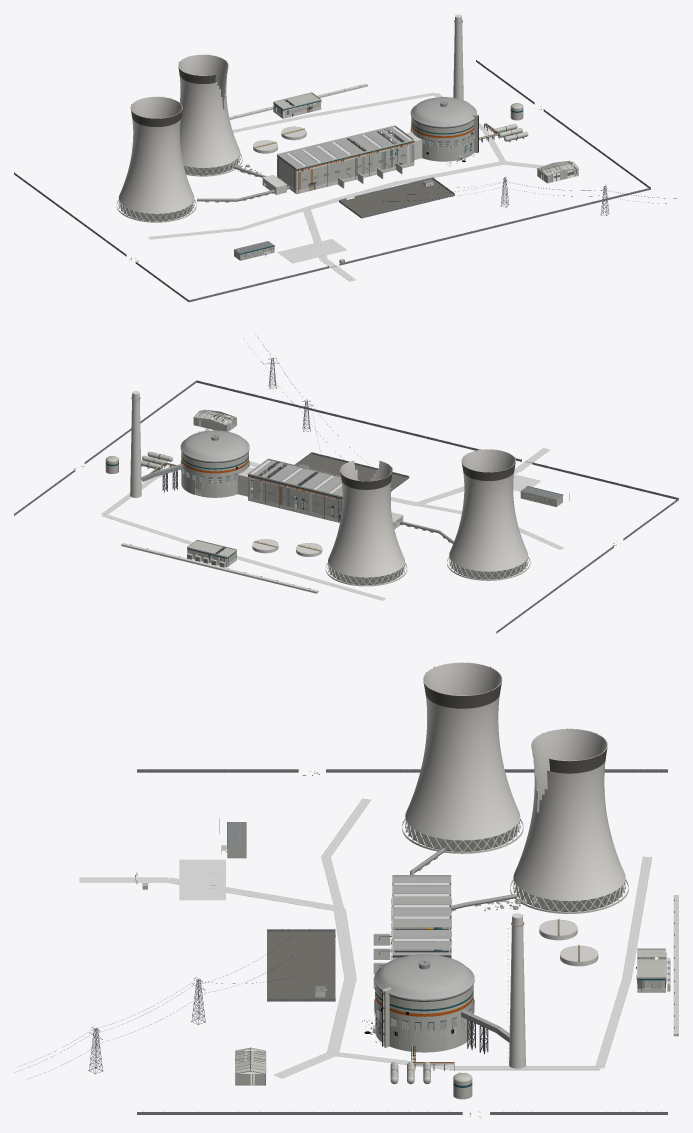
Rendered from fusion-plant.glb.
3 views of the same model, one above another, from view 1: azimuth 30°, elevation 25°; view 2: azimuth 150°, elevation 25°; view 3: azimuth 270°, elevation 25° (orthographic). The views are drawn at different scales.
Parts seen in each view (by area): view 1: C-3_0_lod0, C-1_1_lod0, C0_-1_lod0, C1_-1_lod0, C1_0_lod0, C0_0_lod0, C-1_0_lod0, C2_0_lod0, C-2_-2_lod0, C-1_-1_lod0, C0_1_lod0, C1_-3_lod0 (+5 smaller); view 2: C-1_1_lod0, C-3_0_lod0, C1_0_lod0, C0_0_lod0, C2_0_lod0, C0_-1_lod0, C0_1_lod0, C-2_-2_lod0, C1_-3_lod0, C0_2_lod0, C2_-2_lod0, C-1_0_lod0; view 3: C-1_1_lod0, C-3_0_lod0, C1_0_lod0, C0_-1_lod0, C2_0_lod0, C1_-1_lod0, C0_0_lod0, C-2_-2_lod0, C-1_0_lod0, C0_1_lod0, C2_-2_lod0, C-2_0_lod0 (+7 smaller).
Boxes of the visible parts, x1=… form: C-3_0_lod0: x1=116, y1=96, x2=194, y2=222; C-1_1_lod0: x1=178, y1=54, x2=306, y2=175; C0_-1_lod0: x1=296, y1=139, x2=452, y2=216; C1_-1_lod0: x1=395, y1=114, x2=504, y2=193; C1_0_lod0: x1=391, y1=97, x2=476, y2=159; C0_0_lod0: x1=277, y1=125, x2=413, y2=194; C-1_0_lod0: x1=216, y1=146, x2=332, y2=197; C2_0_lod0: x1=434, y1=14, x2=523, y2=142; C-2_-2_lod0: x1=234, y1=239, x2=346, y2=263; C-1_-1_lod0: x1=275, y1=161, x2=361, y2=223; C0_1_lod0: x1=273, y1=92, x2=328, y2=140; C1_-3_lod0: x1=339, y1=187, x2=650, y2=265; C-1_1_lod0: x1=237, y1=460, x2=404, y2=600; C-3_0_lod0: x1=449, y1=449, x2=530, y2=580; C1_0_lod0: x1=153, y1=430, x2=270, y2=497; C0_0_lod0: x1=247, y1=460, x2=342, y2=522; C2_0_lod0: x1=101, y1=391, x2=176, y2=514; C0_-1_lod0: x1=268, y1=454, x2=418, y2=505; C0_1_lod0: x1=187, y1=539, x2=278, y2=567; C-2_-2_lod0: x1=513, y1=467, x2=563, y2=506; C1_-3_lod0: x1=196, y1=366, x2=521, y2=461; C0_2_lod0: x1=121, y1=543, x2=318, y2=593; C2_-2_lod0: x1=193, y1=409, x2=236, y2=431; C-1_0_lod0: x1=329, y1=487, x2=417, y2=529; C-1_1_lod0: x1=513, y1=728, x2=652, y2=978; C-3_0_lod0: x1=405, y1=662, x2=523, y2=851; C1_0_lod0: x1=374, y1=954, x2=499, y2=1054; C0_-1_lod0: x1=267, y1=875, x2=402, y2=998; C2_0_lod0: x1=407, y1=913, x2=599, y2=1099; C1_-1_lod0: x1=267, y1=978, x2=410, y2=1054; C0_0_lod0: x1=392, y1=875, x2=451, y2=959; C-2_-2_lod0: x1=171, y1=821, x2=246, y2=900; C-1_0_lod0: x1=392, y1=875, x2=541, y2=929; C0_1_lod0: x1=560, y1=944, x2=670, y2=997; C2_-2_lod0: x1=235, y1=1047, x2=266, y2=1085; C-2_0_lod0: x1=408, y1=690, x2=522, y2=886.
Size of what is drawn, in the model's own units: 603 by 121 by 486.
